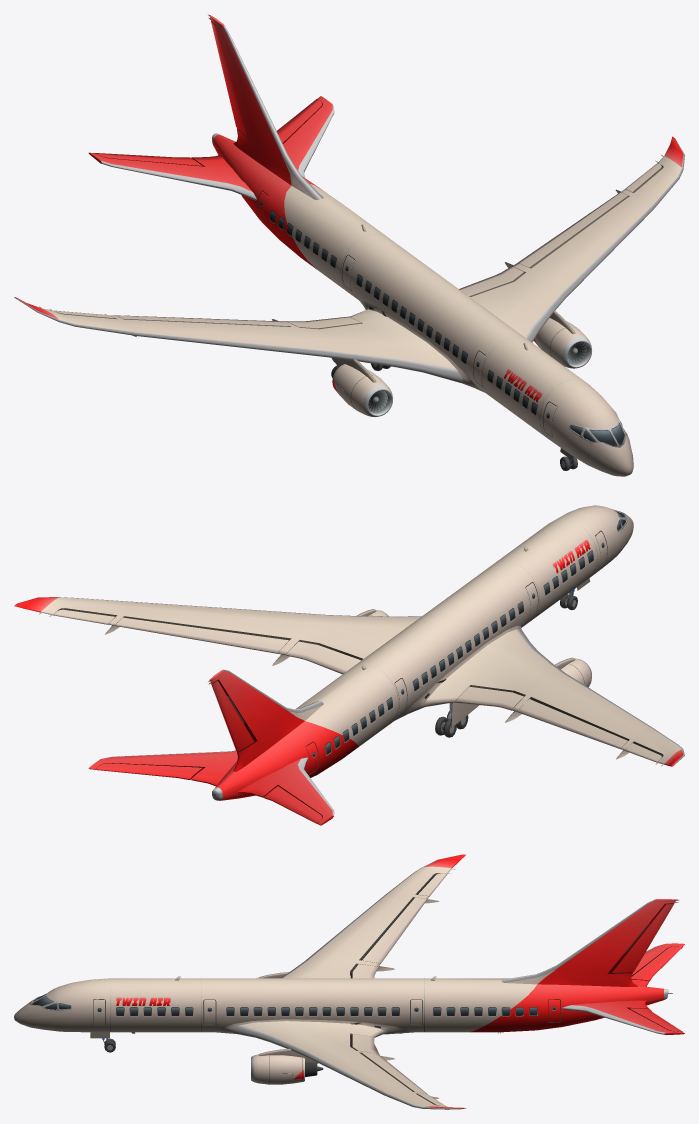
3 renders of one model, top to bottom at view 1: azimuth 30°, elevation 25°; view 2: azimuth 150°, elevation 25°; view 3: azimuth 270°, elevation 25°, orthographic. The views are drawn at different scales.
Parts seen in each view (by area): view 1: Fuselage_Plane_4A, Flap_4A_F.L1, Flap_4A_F.R1, Rudder_4A, Flap_4A_F.L2; view 2: Fuselage_Plane_4A, Flap_4A_F.L1, Flap_4A_F.R1, Flap_4A_F.L2, Rudder_4A, Elevator_4A_R.L, Flap_4A_F.R2, Elevator_4A_R.R, Aileron_4A_F.L; view 3: Fuselage_Plane_4A, Rudder_4A, Flap_4A_F.R1, Elevator_4A_R.R, Flap_4A_F.L1, Flap_4A_F.L2.
Boxes of the visible parts, x1,y1,x2,y2 form: Fuselage_Plane_4A: (14, 14, 684, 476); Flap_4A_F.L1: (518, 192, 628, 268); Flap_4A_F.R1: (115, 315, 289, 326); Rudder_4A: (211, 21, 249, 137); Flap_4A_F.L2: (459, 266, 524, 296); Fuselage_Plane_4A: (14, 505, 684, 825); Flap_4A_F.L1: (115, 617, 289, 653); Flap_4A_F.R1: (517, 699, 627, 749); Flap_4A_F.L2: (286, 641, 361, 674); Rudder_4A: (211, 680, 254, 751); Elevator_4A_R.L: (95, 763, 203, 779); Flap_4A_F.R2: (455, 686, 523, 710); Elevator_4A_R.R: (264, 786, 322, 823); Aileron_4A_F.L: (53, 609, 115, 624); Fuselage_Plane_4A: (14, 854, 684, 1109); Rudder_4A: (609, 903, 674, 972); Flap_4A_F.R1: (361, 897, 427, 963); Elevator_4A_R.R: (631, 946, 682, 981); Flap_4A_F.L1: (361, 1053, 426, 1093); Flap_4A_F.L2: (350, 1034, 378, 1053).
Bounding box in the file's own units: 43.56 × 12.11 × 48.7.
